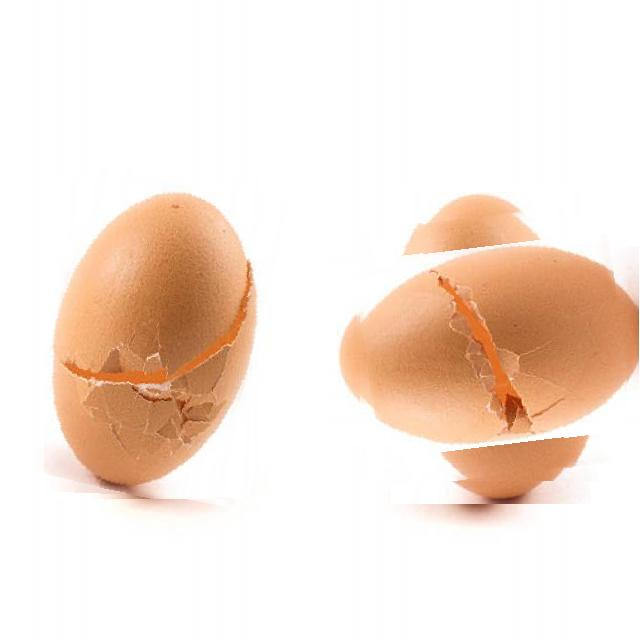biodegradable: (44, 169, 274, 499), (354, 209, 627, 481)
